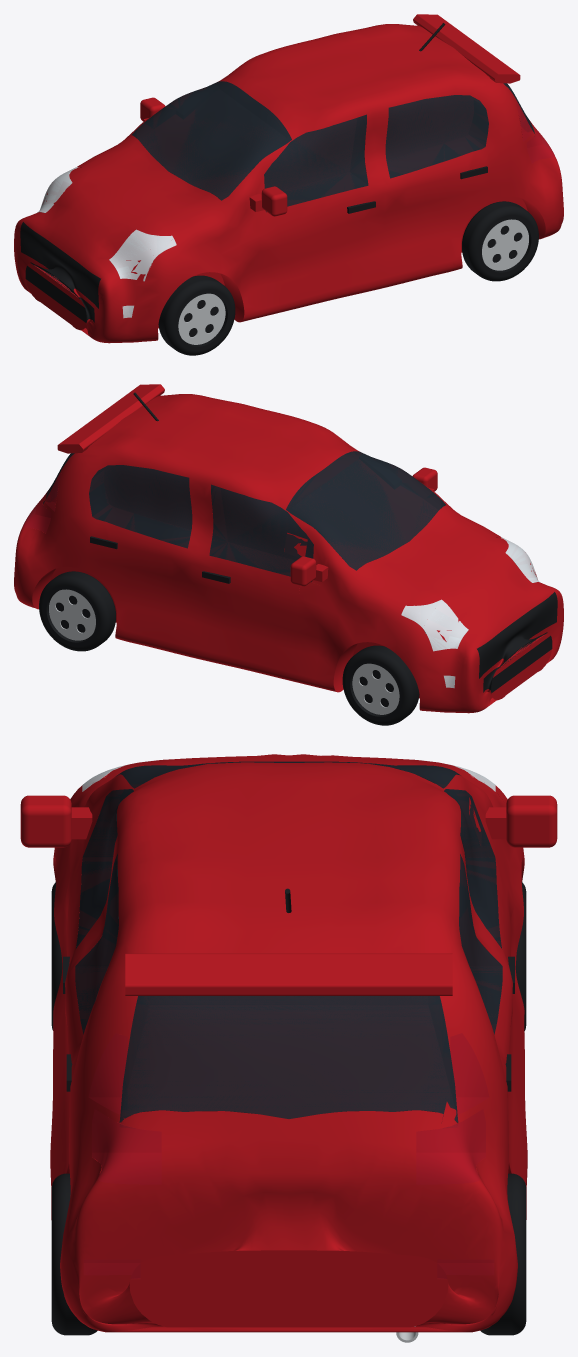
Rendered from myvi.glb.
3 renders of one model, top to bottom at view 1: azimuth 30°, elevation 25°; view 2: azimuth 150°, elevation 25°; view 3: azimuth 270°, elevation 25°, orthographic. The views are drawn at different scales.
Visible parts, largest first — view 1: myvi (×6); view 2: myvi (×6); view 3: myvi (×4).
Part boxes in pixels (<box>): myvi (×6): <box>14,14,563,355</box>; myvi (×6): <box>14,384,563,725</box>; myvi (×4): <box>20,754,557,1335</box>.
Size of the model in its own units: 4.55 by 2.06 by 2.3.
